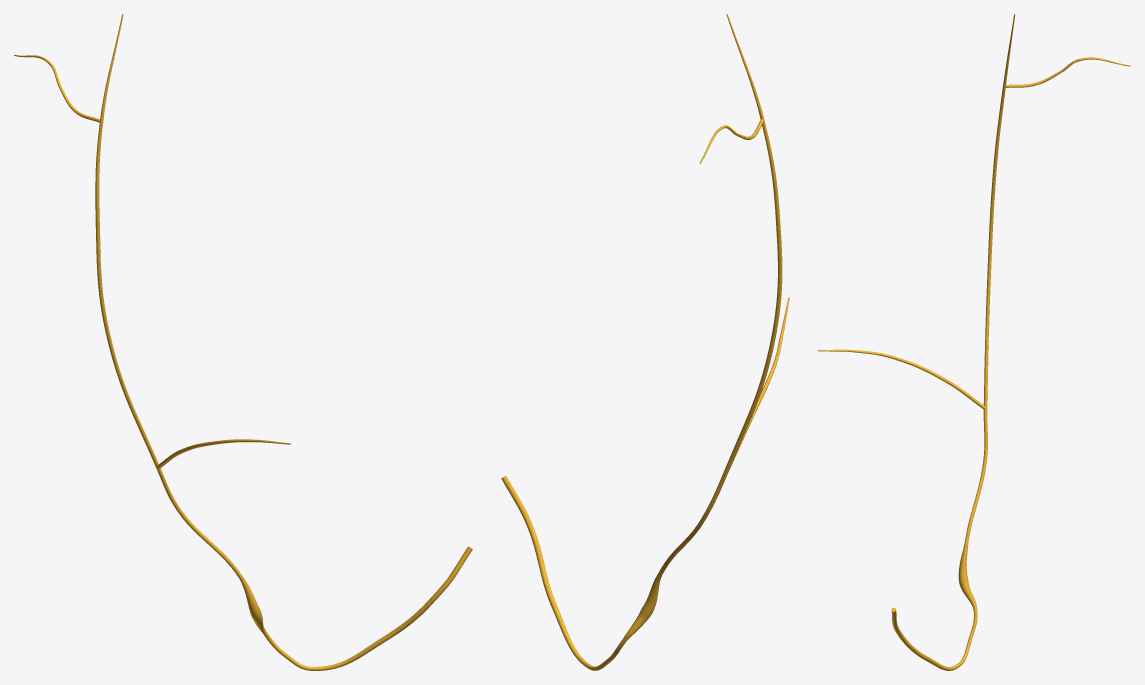
The model's file is nervoso-meningeal-branch-of-maxillary-nerve-r.glb.
3 views of the same model, side by side, from view 1: azimuth 30°, elevation 25°; view 2: azimuth 150°, elevation 25°; view 3: azimuth 270°, elevation 25° (orthographic). The views are drawn at different scales.
Parts seen in each view (by area): view 1: Meningeal branch of maxillary nerve.r; view 2: Meningeal branch of maxillary nerve.r; view 3: Meningeal branch of maxillary nerve.r.
Boxes of the visible parts, bbox=[...] form: Meningeal branch of maxillary nerve.r: bbox=[14, 14, 472, 670]; Meningeal branch of maxillary nerve.r: bbox=[501, 14, 789, 670]; Meningeal branch of maxillary nerve.r: bbox=[818, 14, 1130, 670].
Bounding box in the file's own units: 0.0536 × 0.107 × 0.0518.
